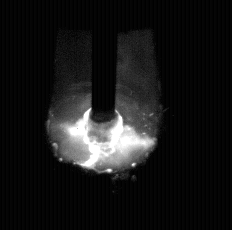arame: (92, 0, 117, 123)
poca: (50, 0, 159, 230)
